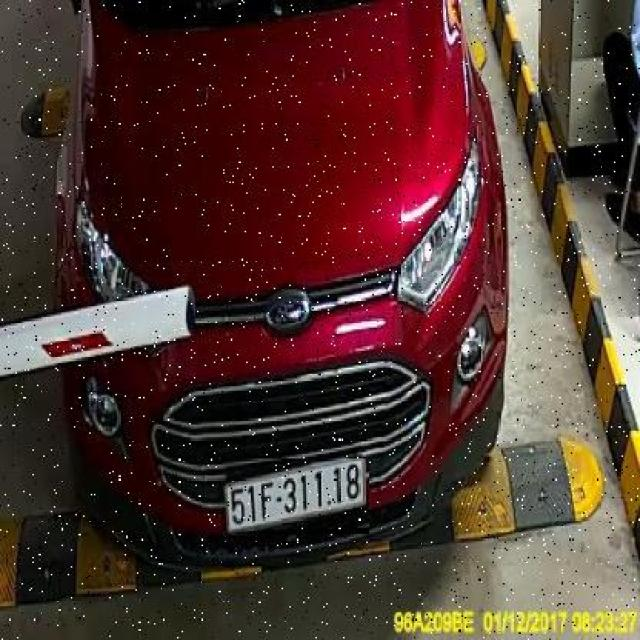number_plate: (216, 458, 370, 534)
